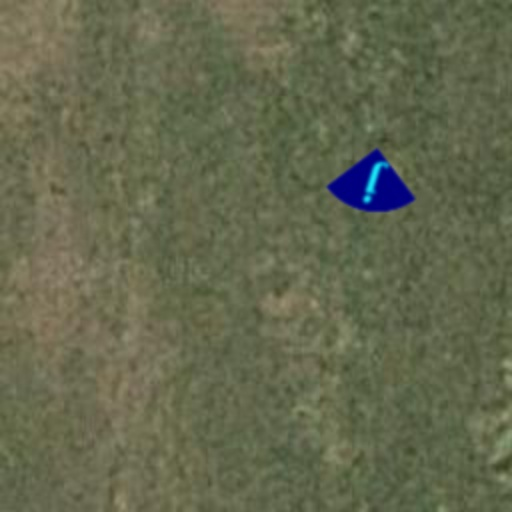quarter_circle: (322, 136, 422, 236)
